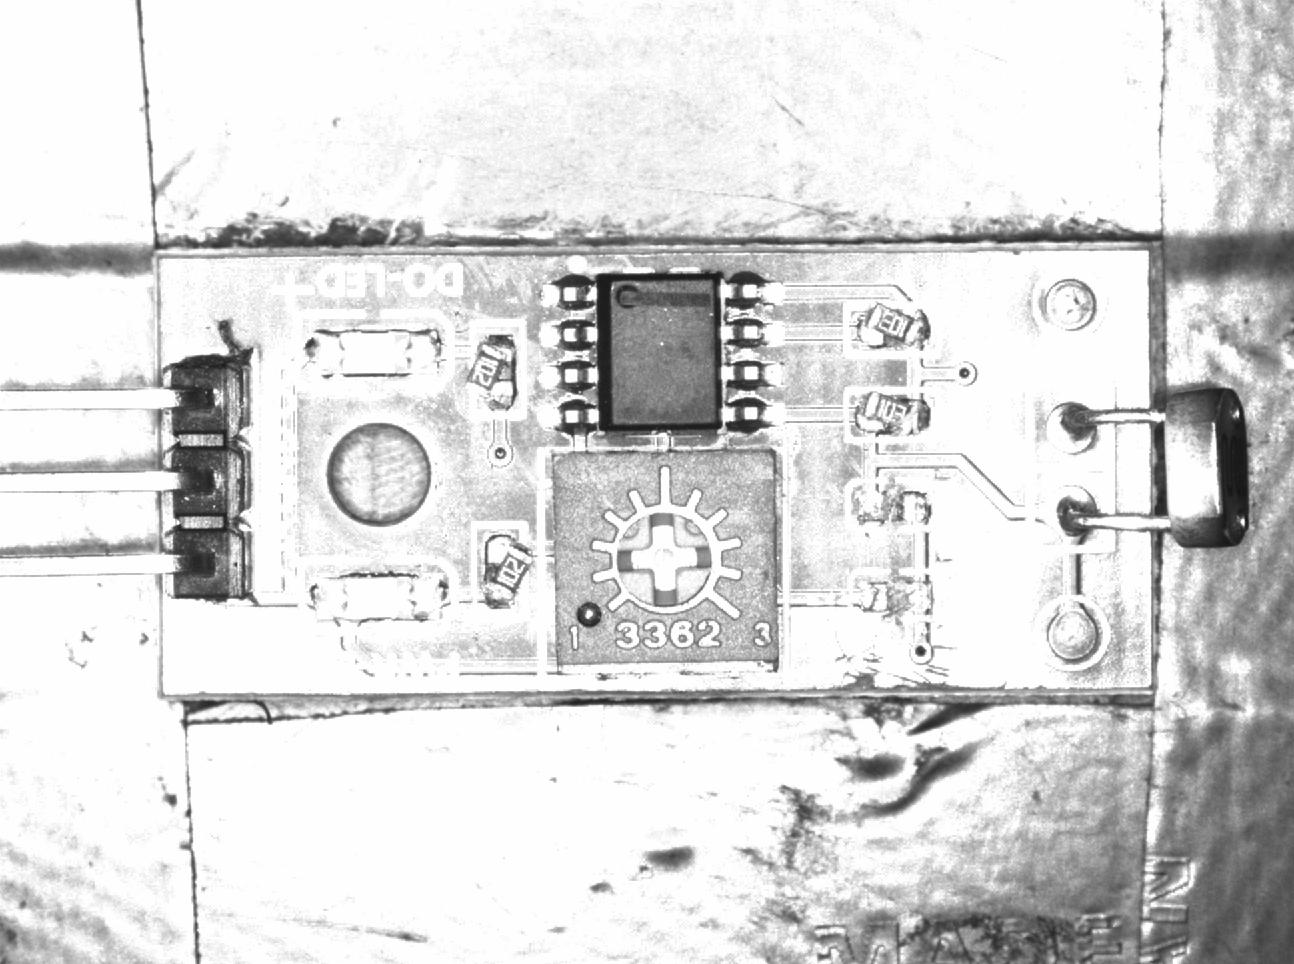lifted: (467, 319, 524, 420), (474, 521, 532, 614), (844, 303, 937, 353), (845, 388, 936, 439)
miss: (852, 567, 944, 623), (850, 481, 942, 528)
